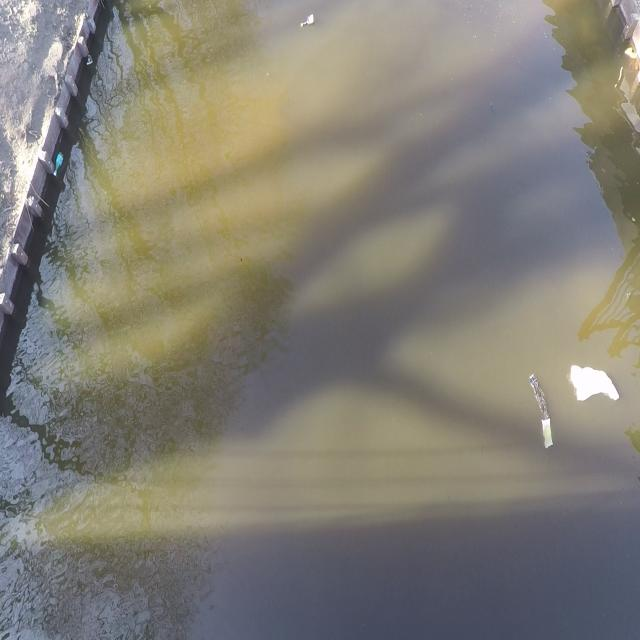Autre plastique: (568, 361, 620, 410)
Non plastique: (528, 370, 556, 450)
